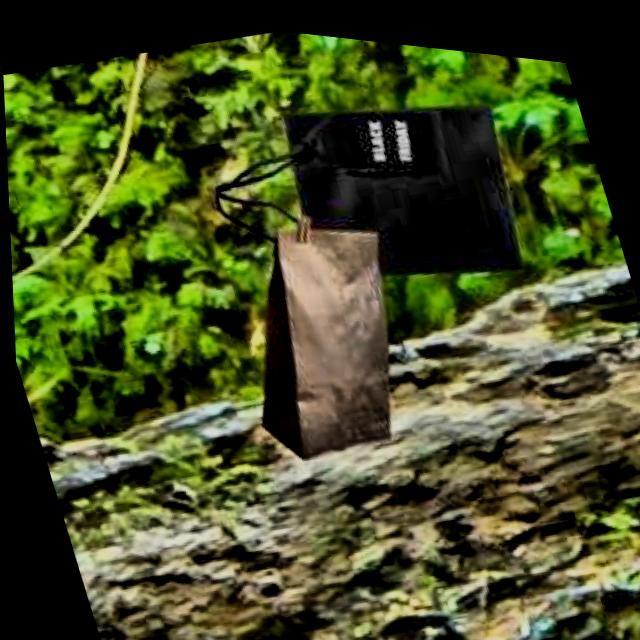Paper-bag: (172, 34, 551, 354), (184, 171, 455, 486)
